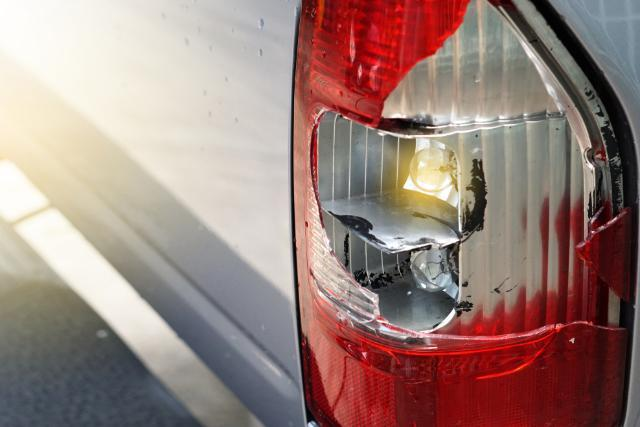Light: (295, 0, 629, 427)
